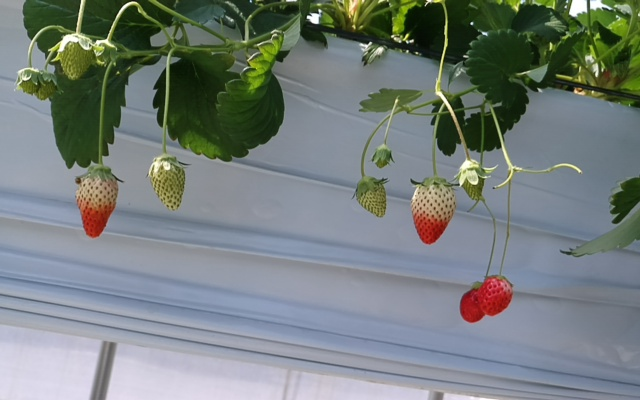GreenStrawberry: (407, 176, 457, 249), (146, 153, 188, 215), (54, 31, 97, 85), (353, 173, 391, 221), (456, 157, 488, 201), (31, 72, 60, 101), (14, 68, 41, 95), (369, 142, 395, 169)
MatureStrawberry: (72, 165, 120, 240), (477, 273, 515, 319), (459, 285, 489, 325)
